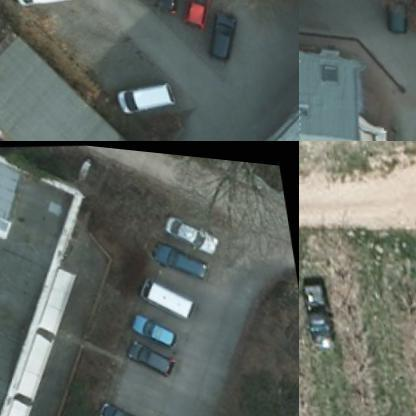car: (154, 233, 209, 280), (124, 330, 176, 376), (202, 0, 244, 56), (118, 73, 173, 115), (166, 208, 218, 250), (130, 302, 177, 346), (98, 390, 151, 415), (383, 0, 413, 33), (183, 0, 215, 23), (148, 0, 188, 13)
pickup: (299, 275, 335, 348)
van: (136, 266, 198, 318)
